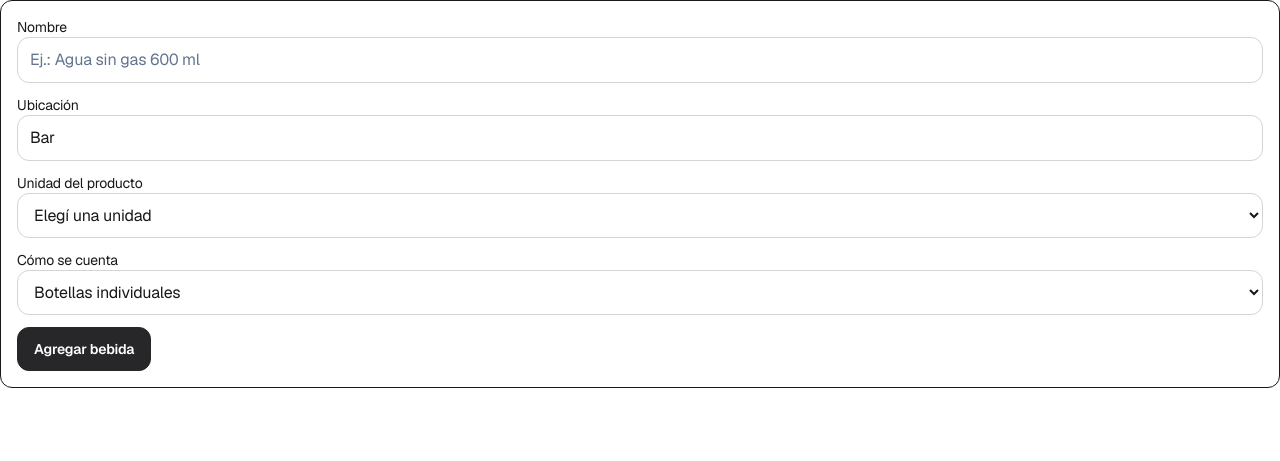
adds a drink without exposing target, restore or provider controls and retains input on error
Type "Limonada" into the field labelled "Nombre" at {"x": 640, "y": 60}, box [17,37,1263,83]
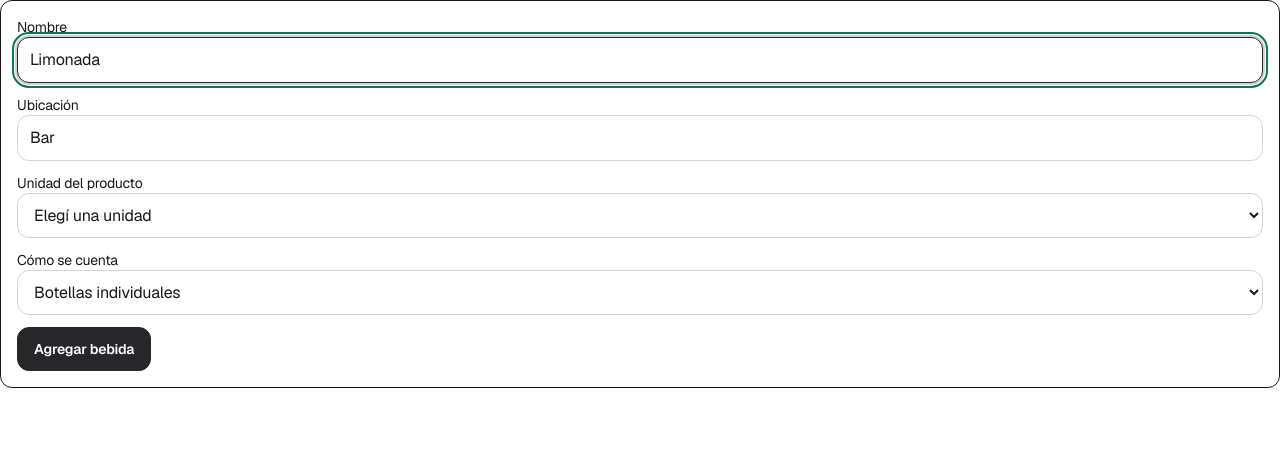
Select "Unidad (unidad)" in the dropdown labelled "Unidad del producto" at {"x": 640, "y": 216}, box [17,193,1263,238]
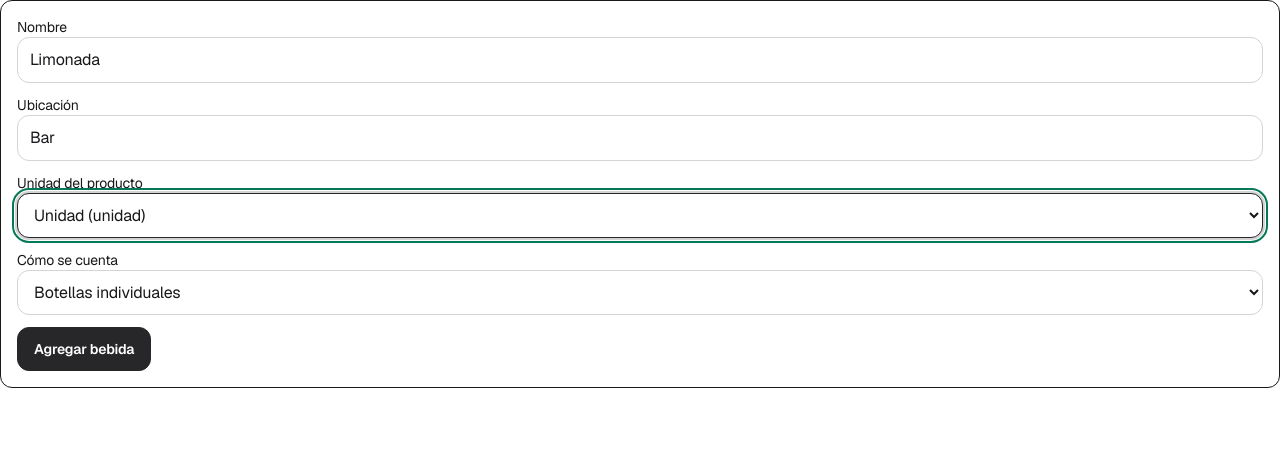
Click the button "Agregar bebida" at {"x": 84, "y": 349}, box [17,327,151,371]
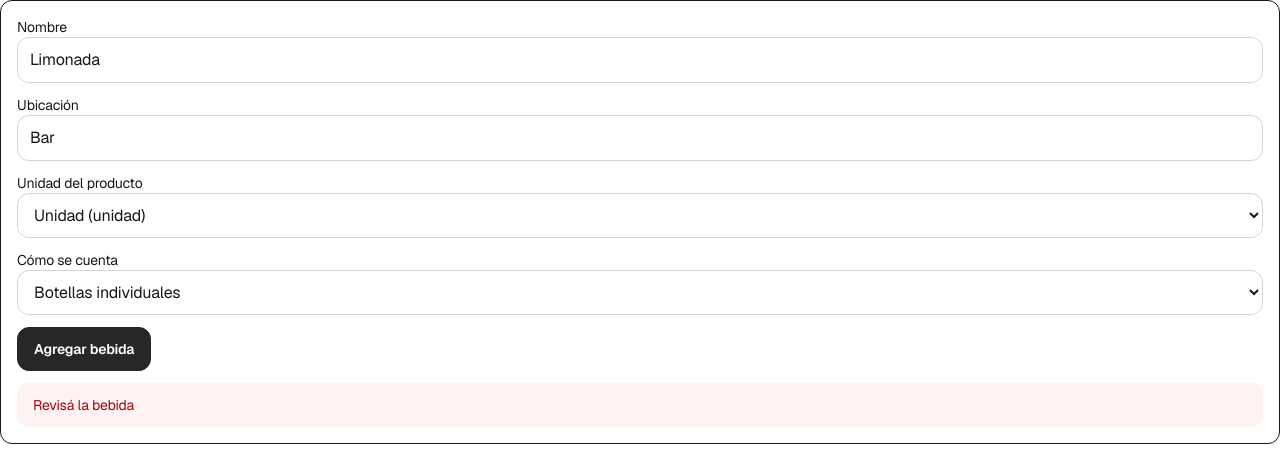
Now the text "Revisá la bebida" is shown, box [17,383,1263,427]
Click the button "Agregar bebida" at {"x": 84, "y": 349}, box [17,327,151,371]
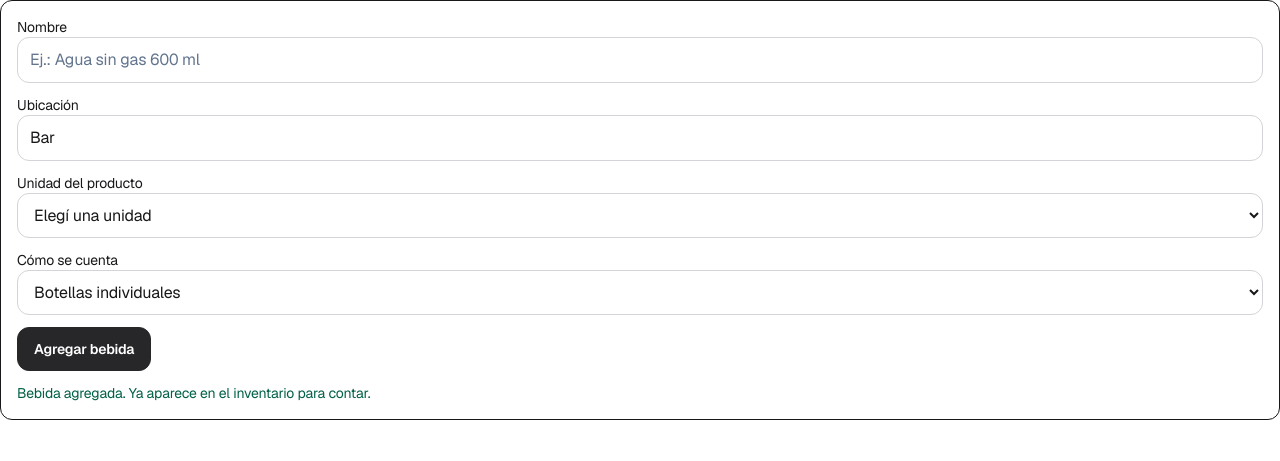
Now the message shows "Bebida agregada", box [17,384,370,402]
Now the field labelled "Nombre" is empty, box [17,37,1263,83]
